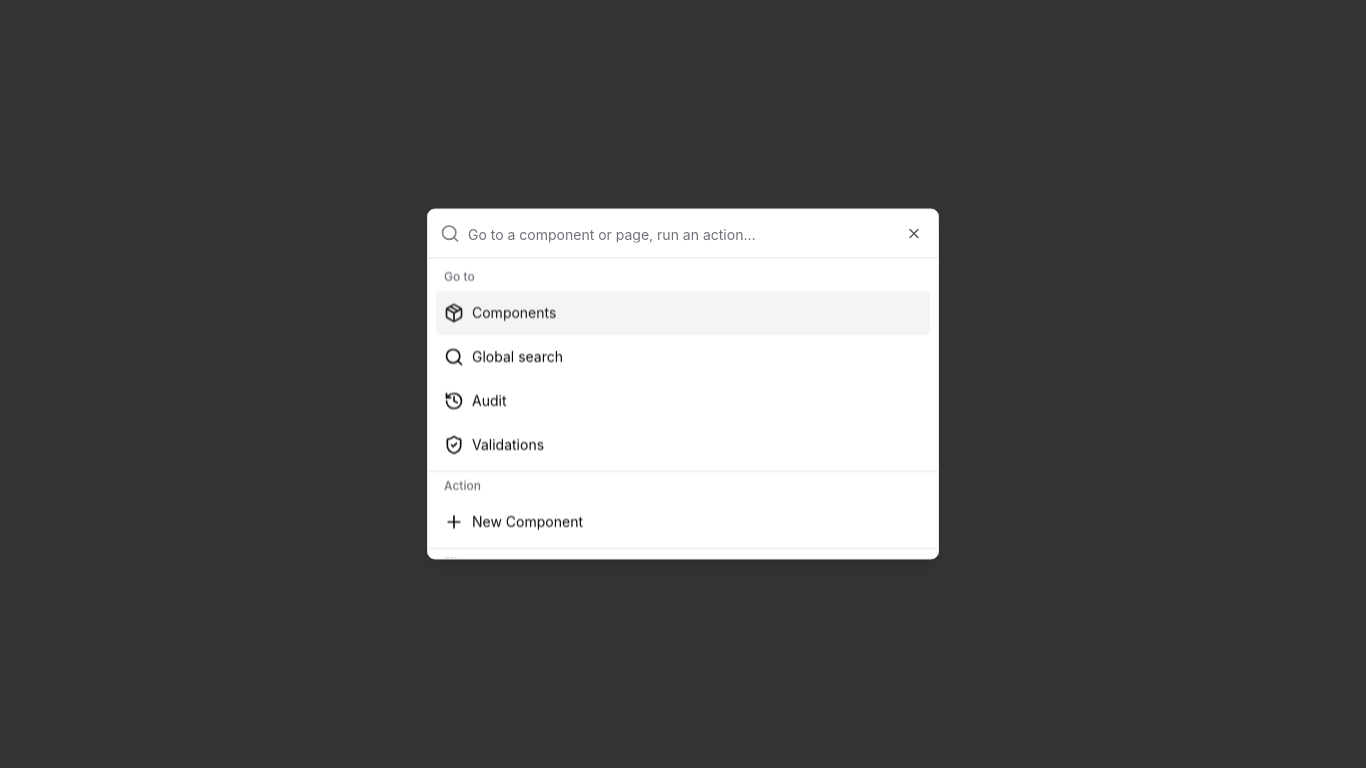
Scenario: CommandPalette — component search › ranks matching components first and hides non-matching static groups
Type "log" into the dropdown with placeholder "Go to a component or page, run an action…" at (697, 234), box x1=468 y1=210 x2=926 y2=258
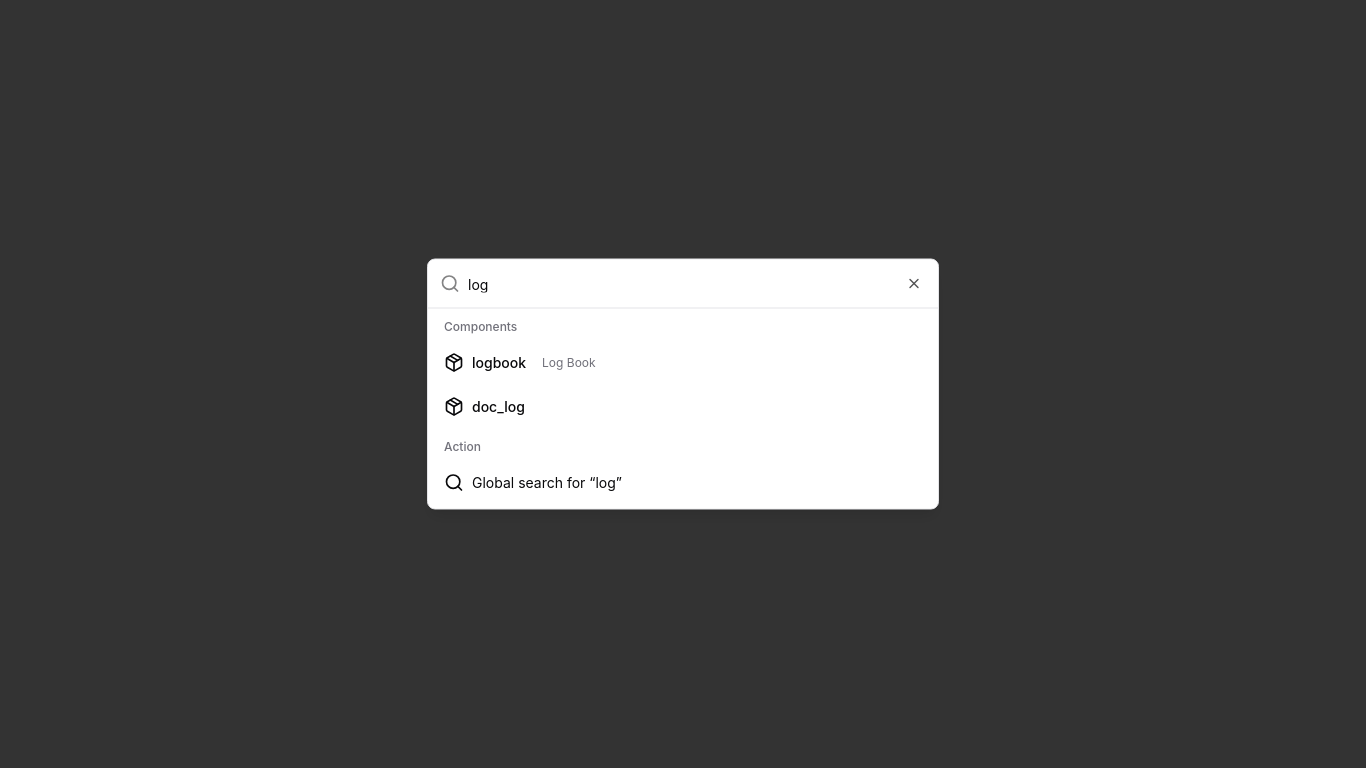
Expected: the text "With problems" is not shown
Now the option "Audit" is gone
Now the option "New Component" is gone
